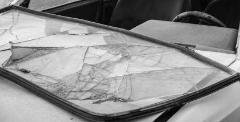glass: (0, 8, 234, 112)
